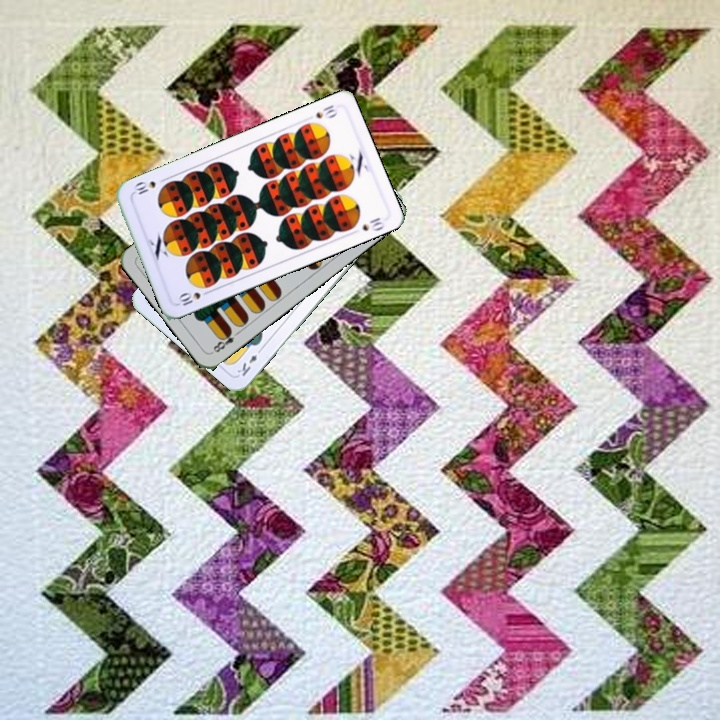E8: (208, 325, 243, 356)
EK: (233, 343, 266, 379)
S10: (174, 282, 213, 309), (312, 101, 340, 121)
